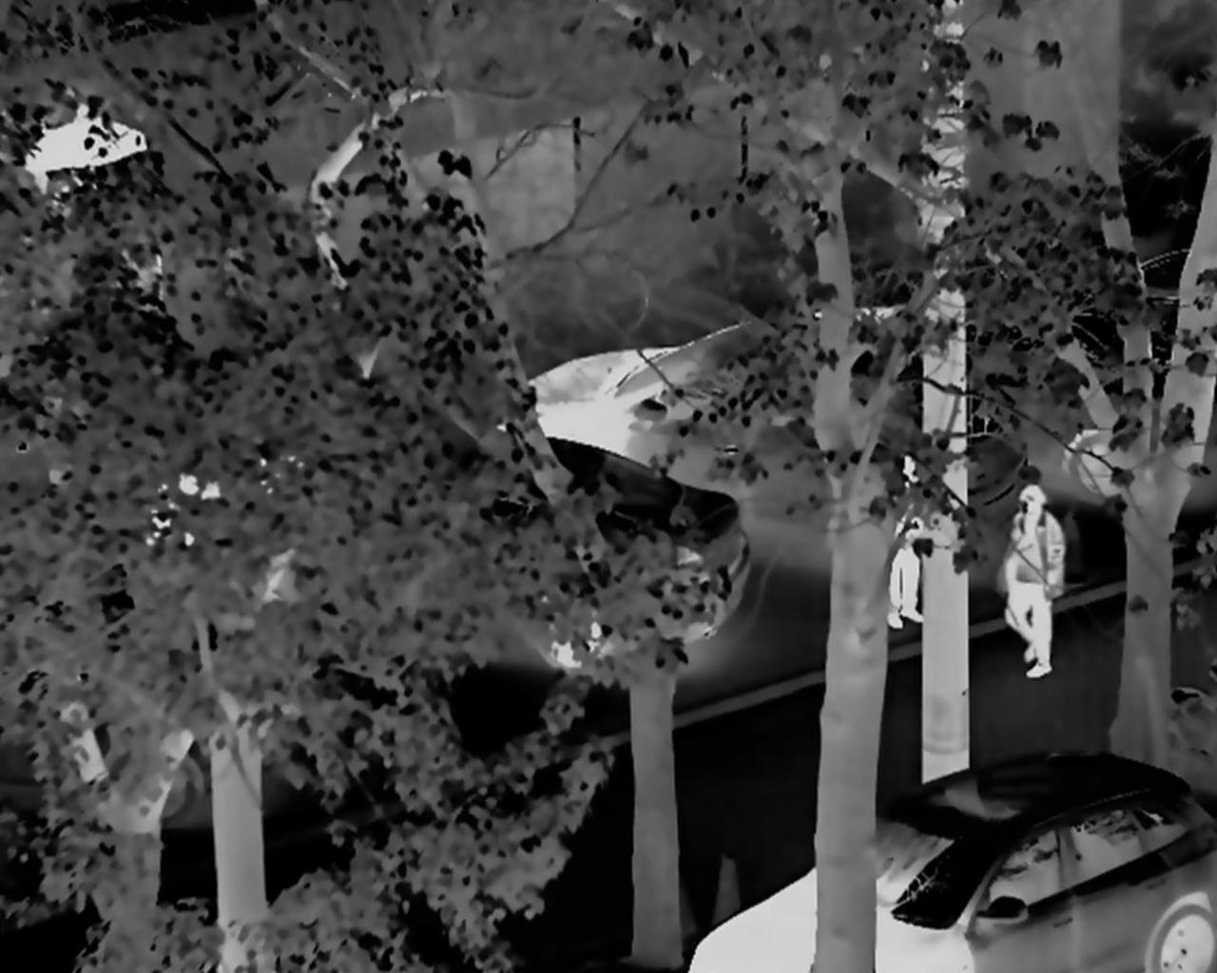person: (997, 483, 1069, 682), (884, 456, 941, 636)
